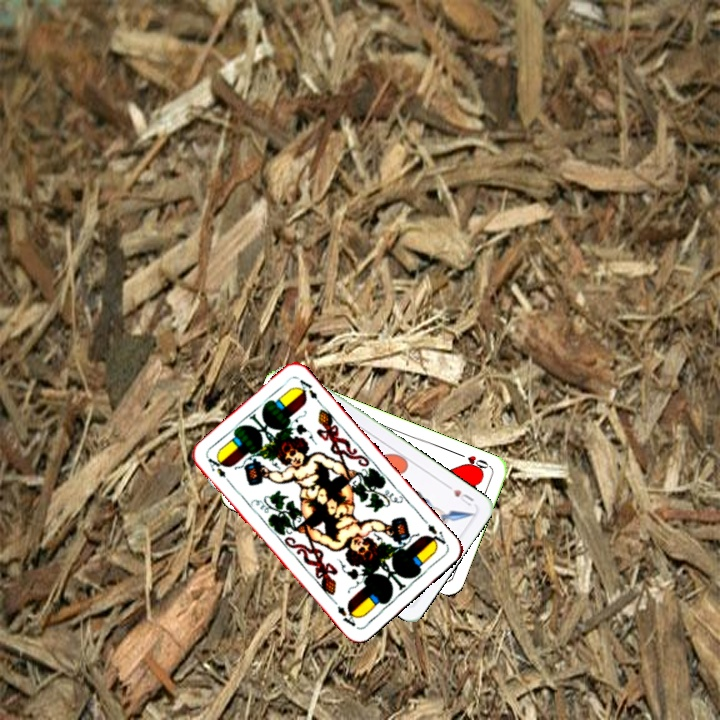EA: (419, 515, 448, 551), (204, 454, 234, 487)
HO: (454, 449, 493, 475)
HU: (449, 485, 476, 509)
